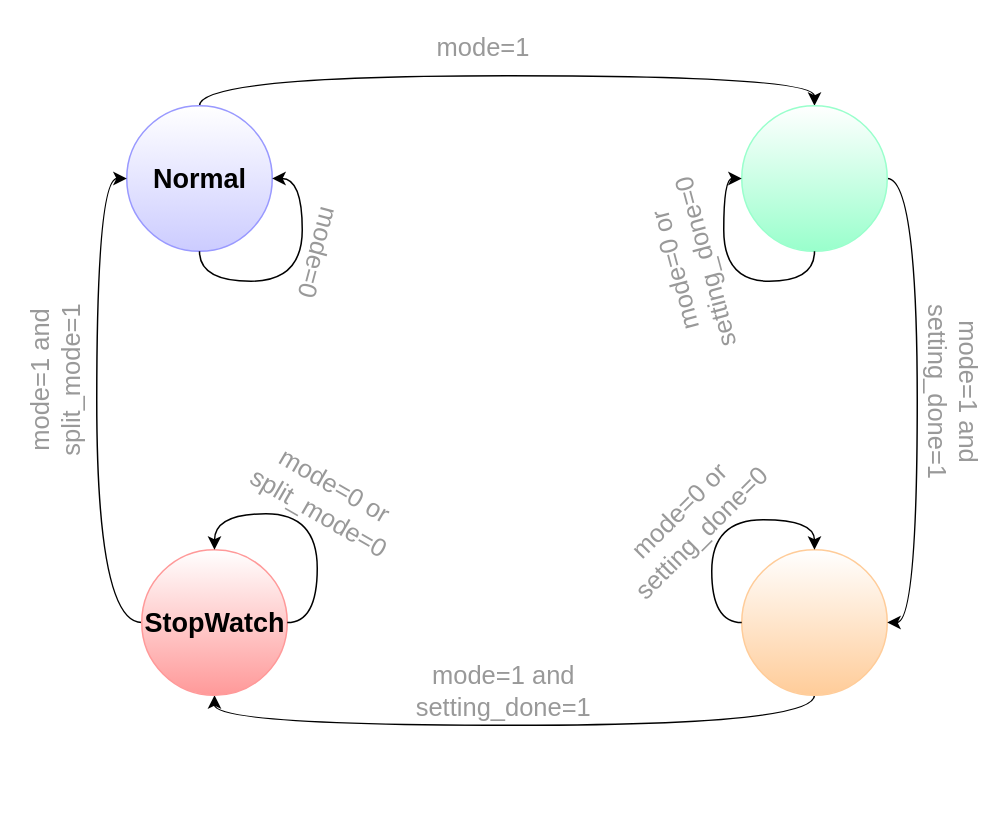
The diagram is 1008 pixels wide and 825 high, and some of its shapes have lost their labels. Each missing label, with the centre of its shape:
SetAlarm: the point at 813,621
SetTime: the point at 813,177
